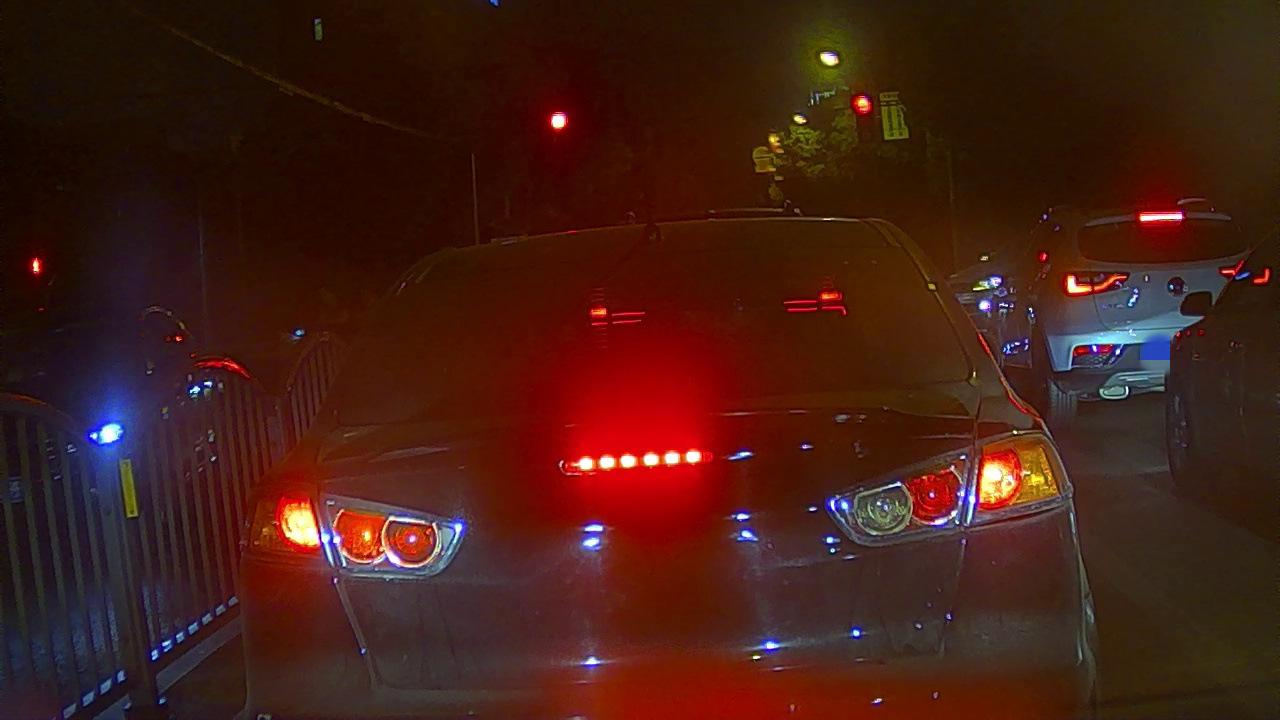traffic_light: (849, 93, 873, 139), (544, 110, 573, 134)
